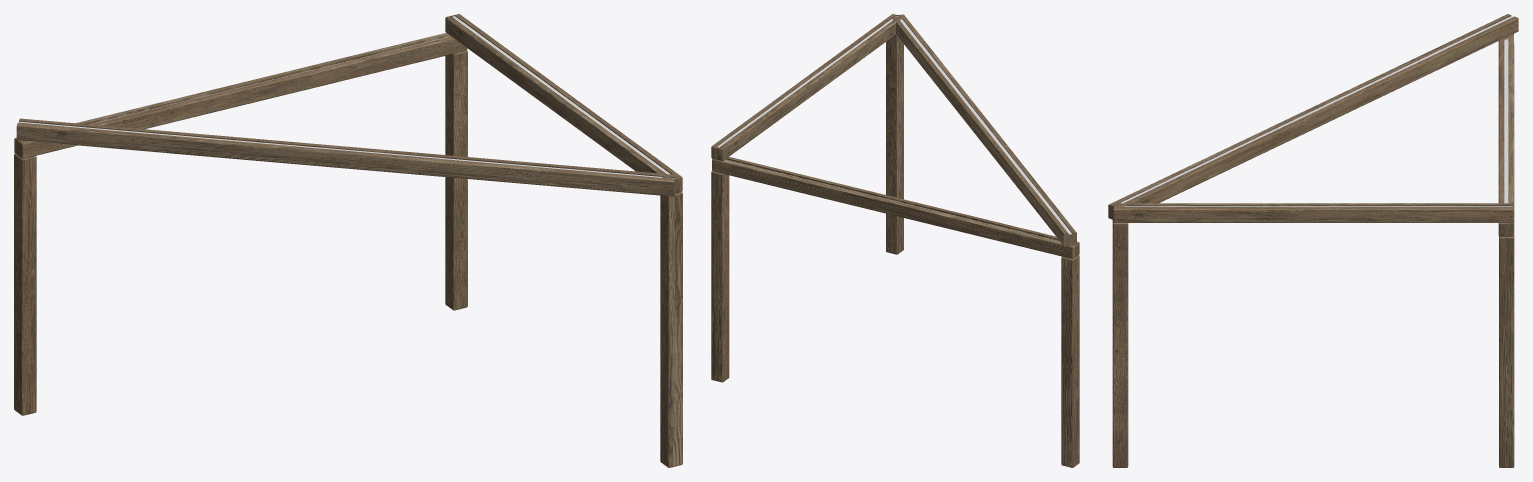
The model's file is balka.gltf.
The picture shows the model from 3 angles, left to right: view 1: azimuth 30°, elevation 25°; view 2: azimuth 150°, elevation 25°; view 3: azimuth 270°, elevation 25°; orthographic projection. The views are drawn at different scales.
Visible parts, largest first — view 1: balka; view 2: balka; view 3: balka.
Part boxes in pixels (x1,y1,x2,y2): balka: (14, 14, 682, 467); balka: (711, 14, 1079, 467); balka: (1108, 14, 1518, 467).
Size of the model in its own units: 4.5 by 2.77 by 3.99.
Materials: 1 (1 with a texture image).
